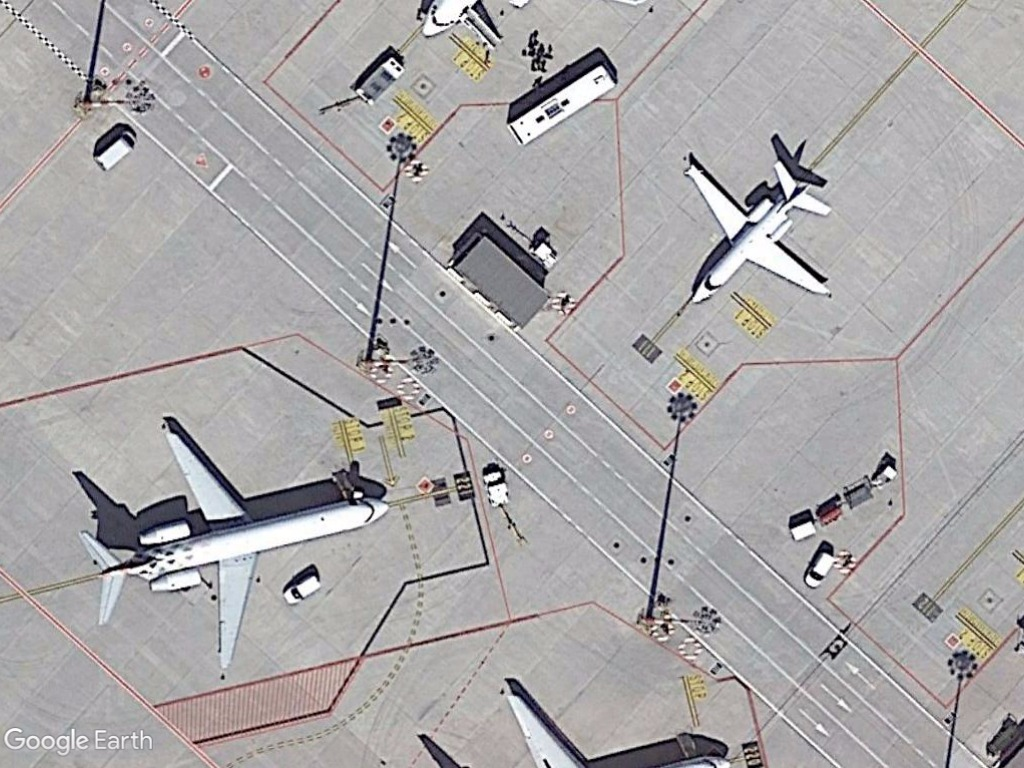bus: (500, 55, 623, 158)
chartered: (73, 420, 391, 675), (680, 150, 841, 319)
other: (349, 52, 409, 112)
van: (91, 127, 140, 175), (278, 571, 329, 608), (800, 549, 838, 591)
